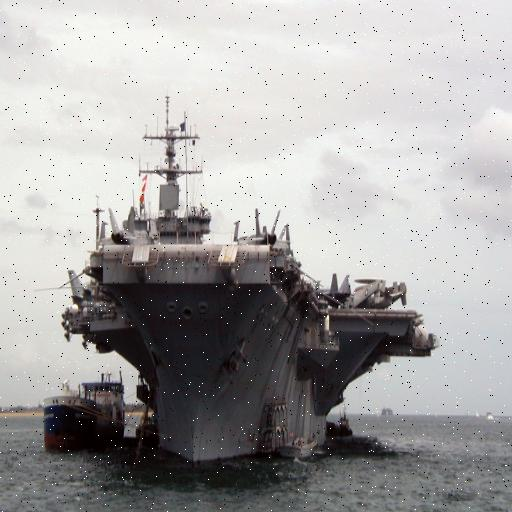Portanaves: (65, 94, 439, 483)
